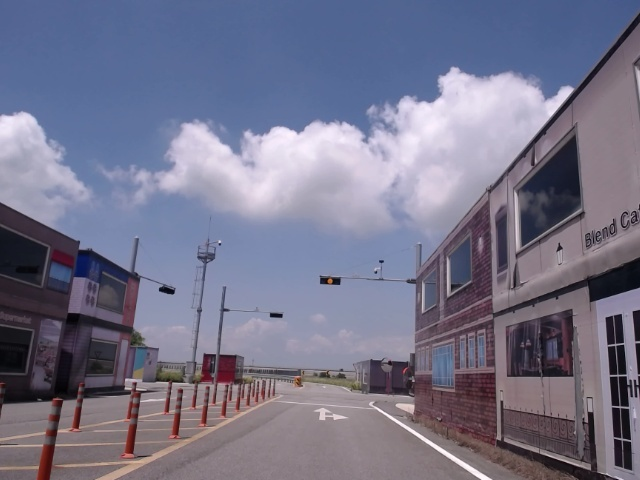orange_3: (319, 276, 340, 284)
